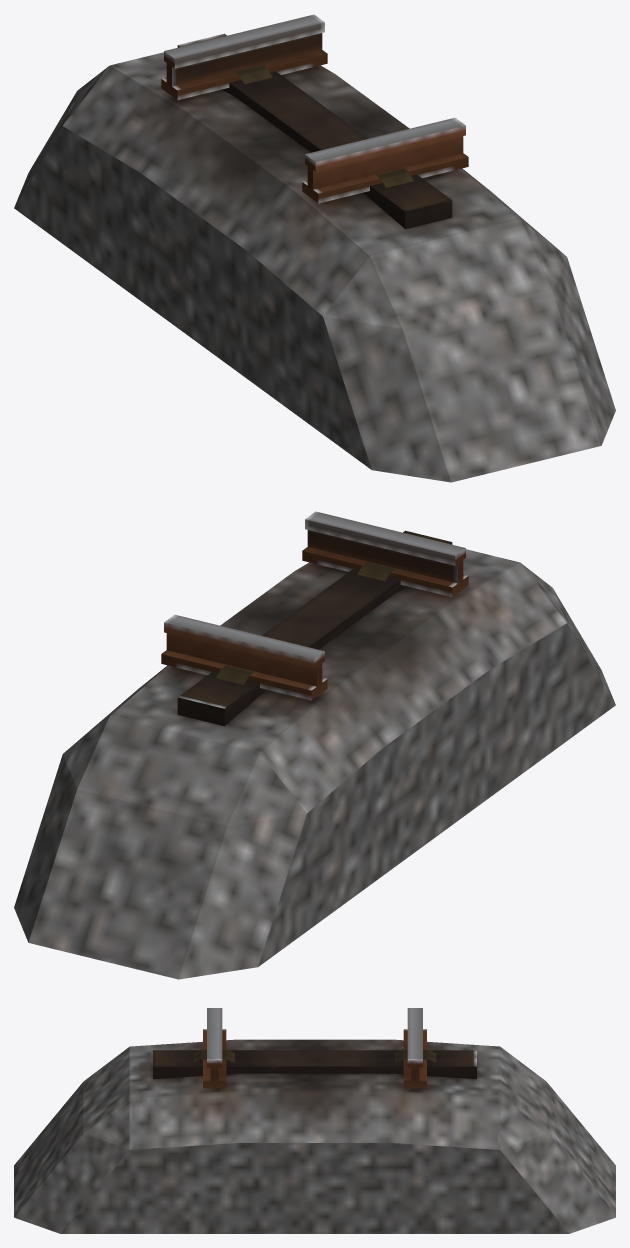
File: mvp_ir_grunt_w.obj
3 renders of one model, top to bottom at view 1: azimuth 30°, elevation 25°; view 2: azimuth 150°, elevation 25°; view 3: azimuth 270°, elevation 25°, orthographic. The views are drawn at different scales.
Visible parts, largest first — view 1: RAIL_BASE_mvpRail_WG, RAIL_LEFT_mvpRail_WG, RAIL_RIGHT_mvpRail_WG; view 2: RAIL_BASE_mvpRail_WG, RAIL_RIGHT_mvpRail_WG, RAIL_LEFT_mvpRail_WG; view 3: RAIL_BASE_mvpRail_WG, RAIL_LEFT_mvpRail_WG, RAIL_RIGHT_mvpRail_WG.
Boxes of the visible parts, left/top/right/bottom form: RAIL_BASE_mvpRail_WG: left=14, top=33, right=615, bottom=482; RAIL_LEFT_mvpRail_WG: left=302, top=117, right=468, bottom=203; RAIL_RIGHT_mvpRail_WG: left=161, top=14, right=327, bottom=100; RAIL_BASE_mvpRail_WG: left=14, top=530, right=615, bottom=979; RAIL_RIGHT_mvpRail_WG: left=161, top=614, right=327, bottom=700; RAIL_LEFT_mvpRail_WG: left=302, top=511, right=468, bottom=597; RAIL_BASE_mvpRail_WG: left=14, top=1039, right=615, bottom=1233; RAIL_LEFT_mvpRail_WG: left=203, top=1008, right=226, bottom=1088; RAIL_RIGHT_mvpRail_WG: left=403, top=1008, right=426, bottom=1088.
Size of the model in its own units: 1.62 by 1.41 by 4.88.
2 materials, 2 textured.
